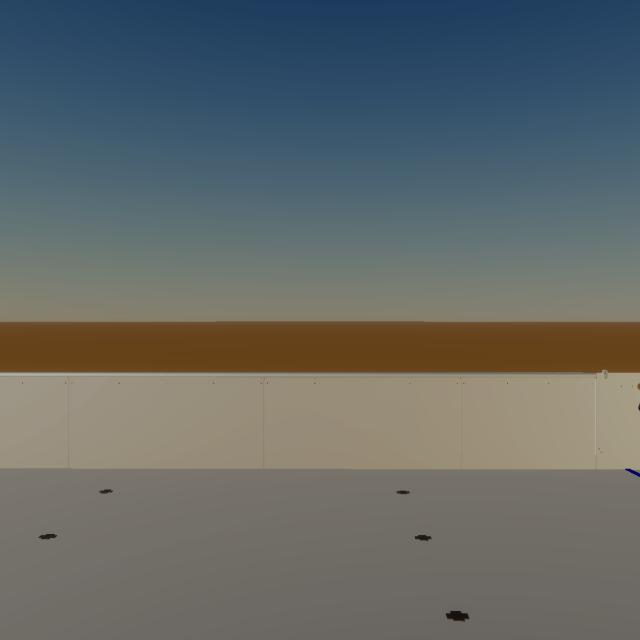frc_cube: (638, 403, 640, 411)
